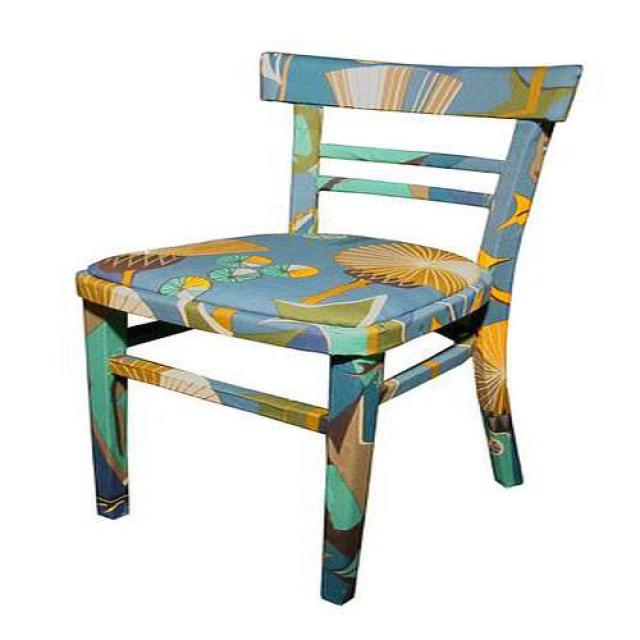chair: (76, 52, 584, 608)
